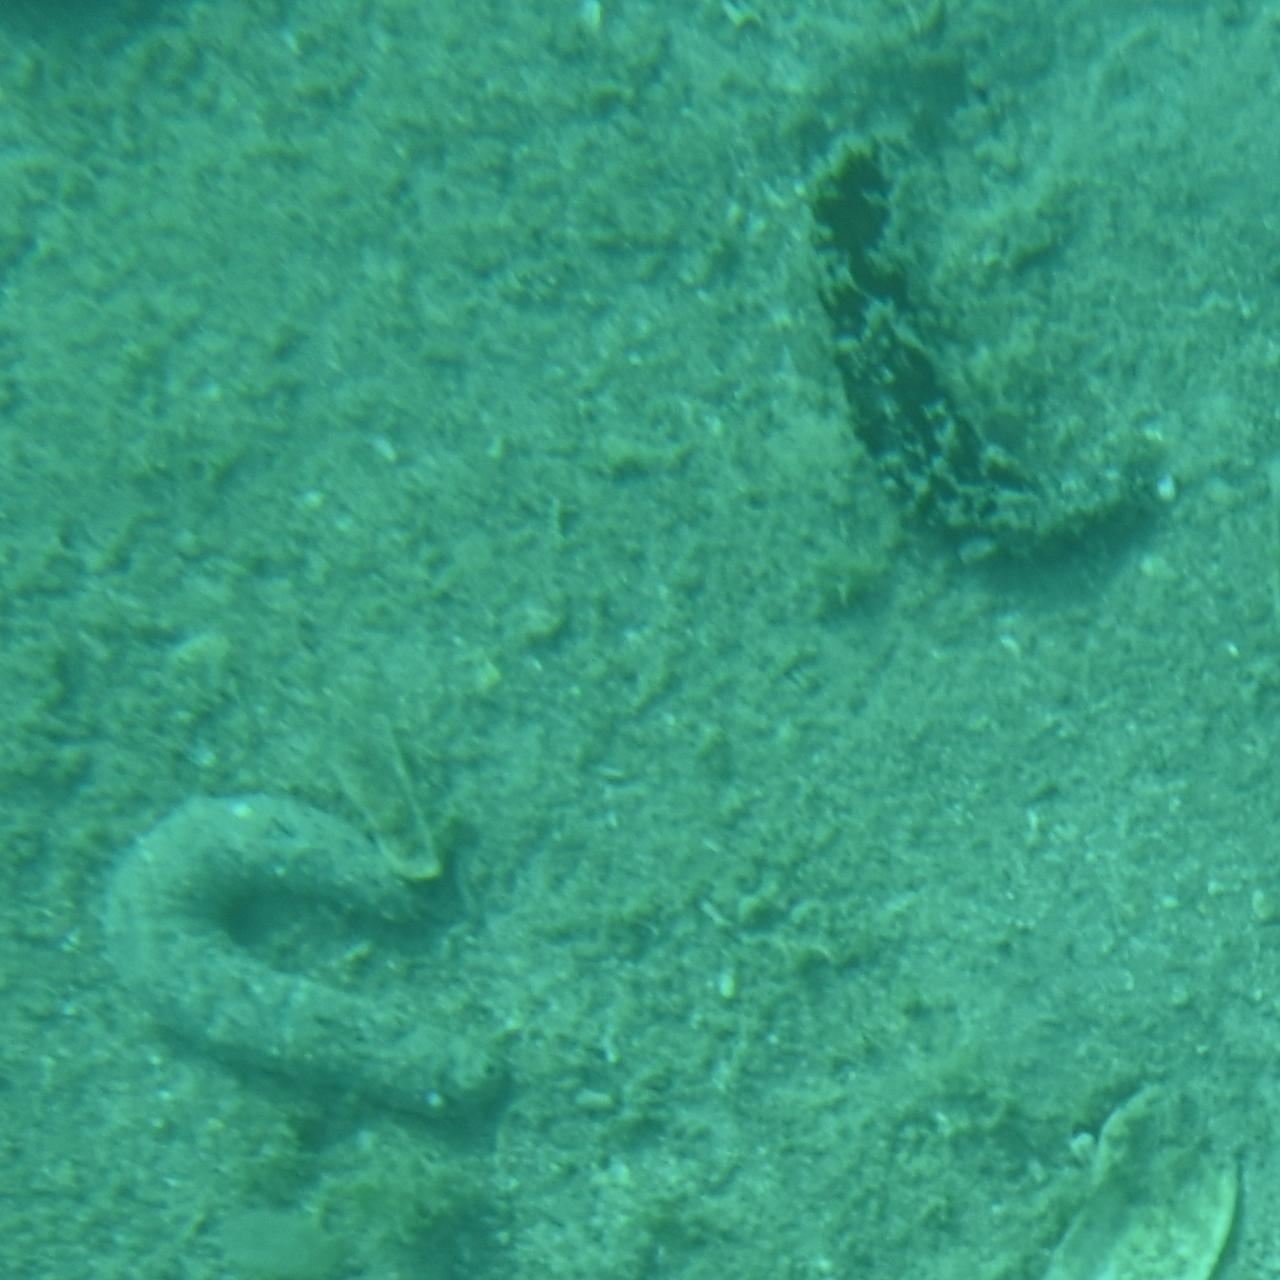Holothuria tubulosa: (785, 63, 1182, 579), (72, 779, 524, 1138)
